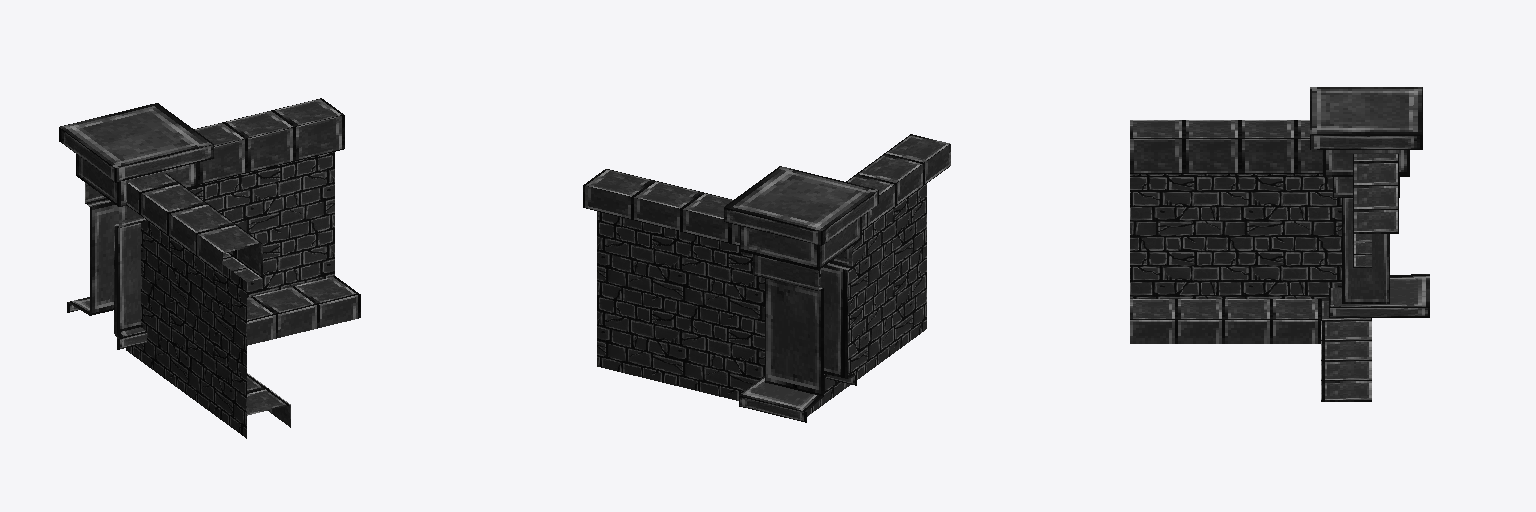
3 renders of one model, left to right at view 1: azimuth 30°, elevation 25°; view 2: azimuth 150°, elevation 25°; view 3: azimuth 270°, elevation 25°, orthographic.
Parts seen in each view (by area): view 1: Plane.012; view 2: Plane.012; view 3: Plane.012.
Boxes of the visible parts, <box> form: Plane.012: <box>59,98,360,438</box>; Plane.012: <box>583,134,950,422</box>; Plane.012: <box>1130,87,1429,401</box>.
Bounding box in the file's own units: 9.06 × 7.42 × 9.38.
Materials: 3 (3 with a texture image).